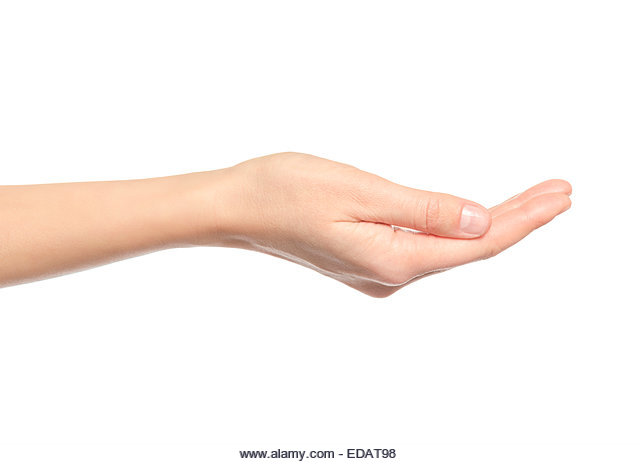non-diseased: (232, 128, 589, 303)
